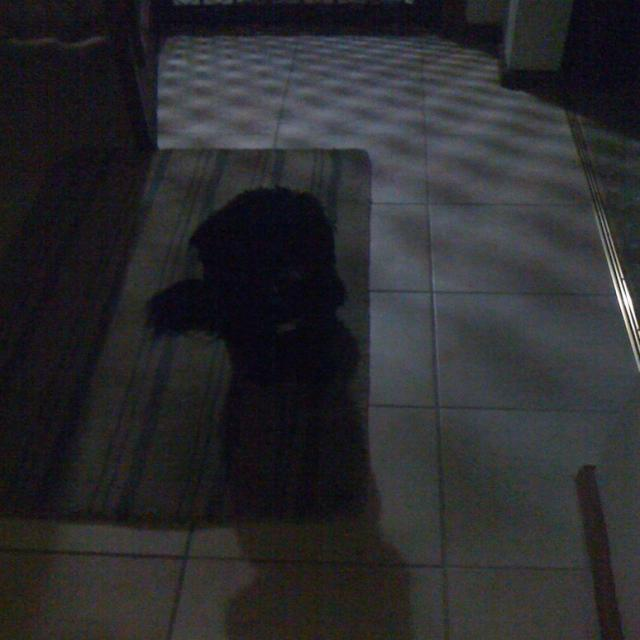Dog: (93, 127, 470, 570)
